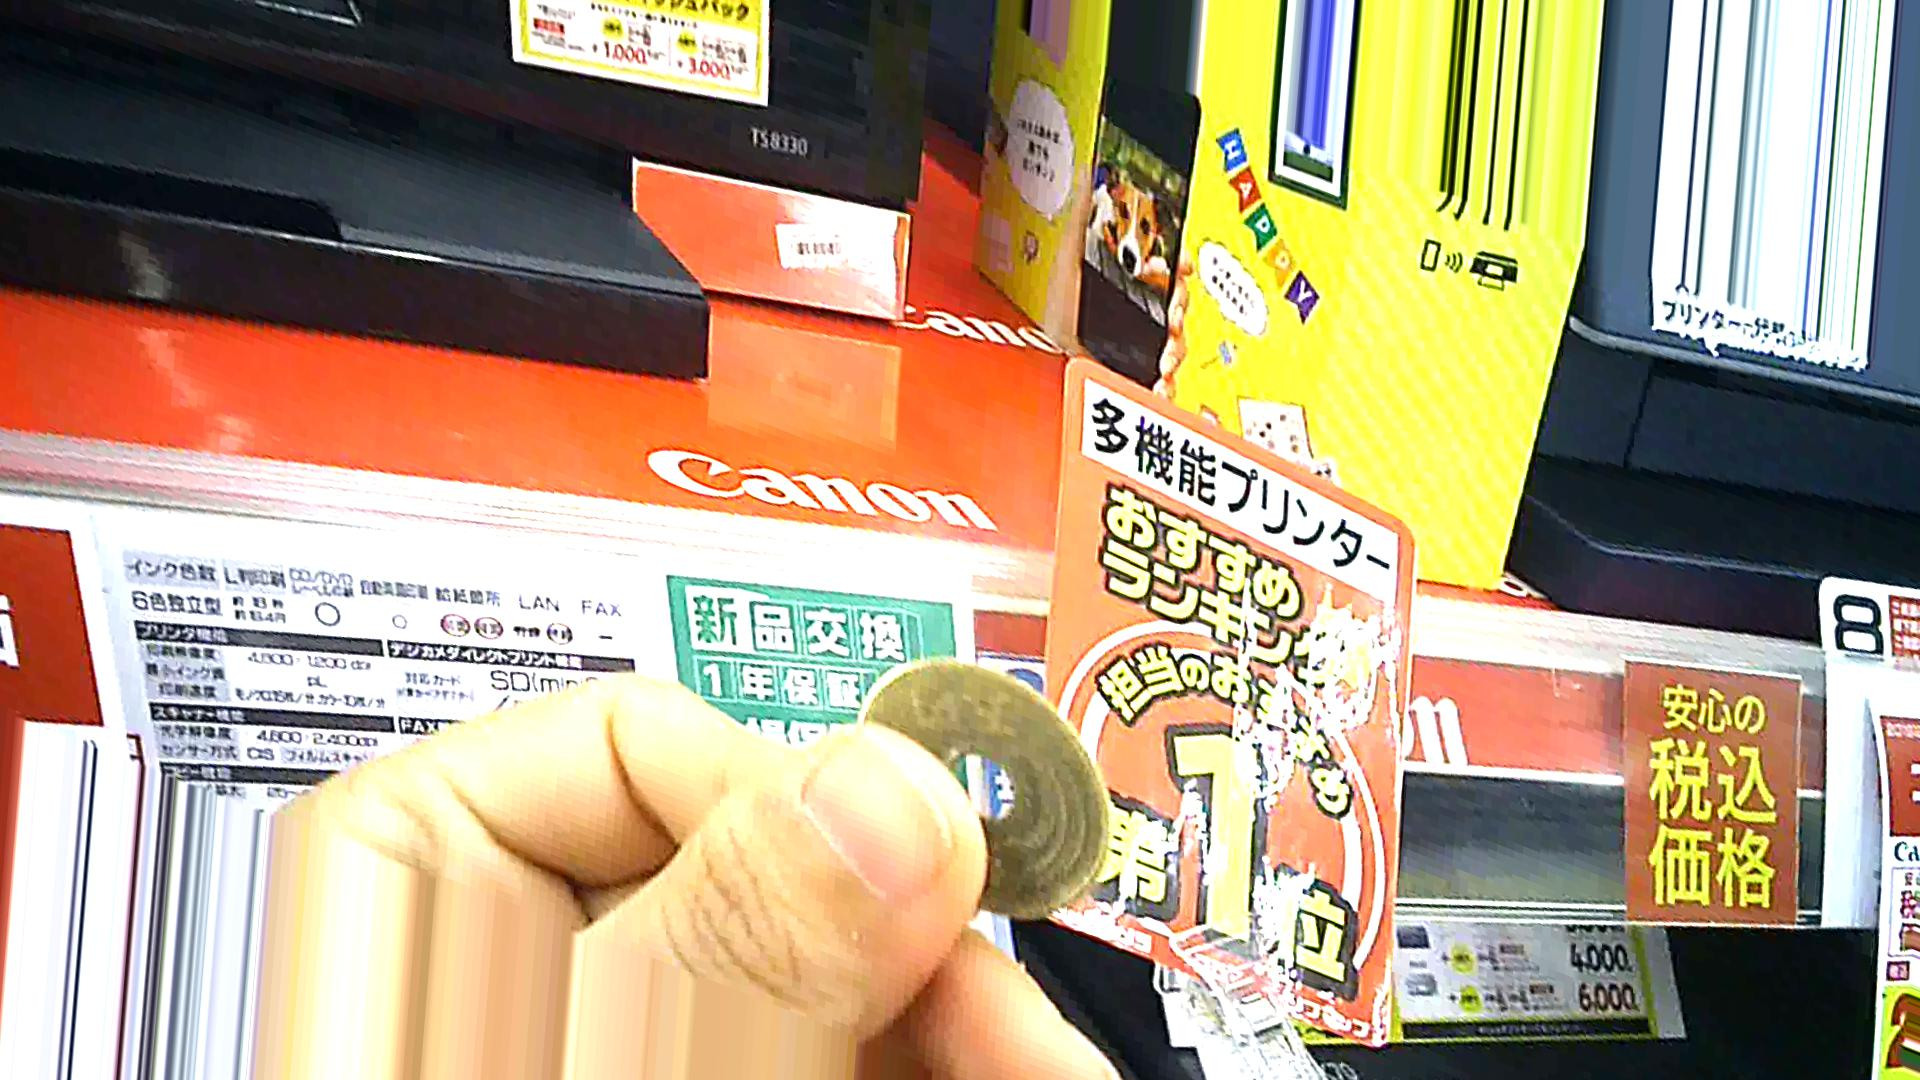5 Yen: (843, 657, 1114, 920)
